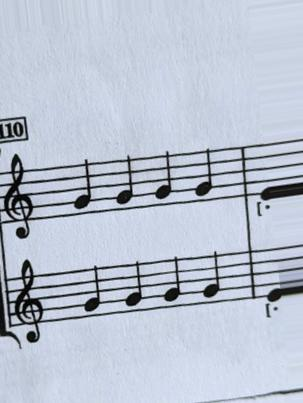note: (74, 261, 112, 321), (146, 148, 180, 214), (190, 142, 221, 210), (118, 259, 151, 322), (66, 155, 97, 222), (196, 249, 228, 312), (159, 253, 189, 320), (111, 150, 139, 215)
